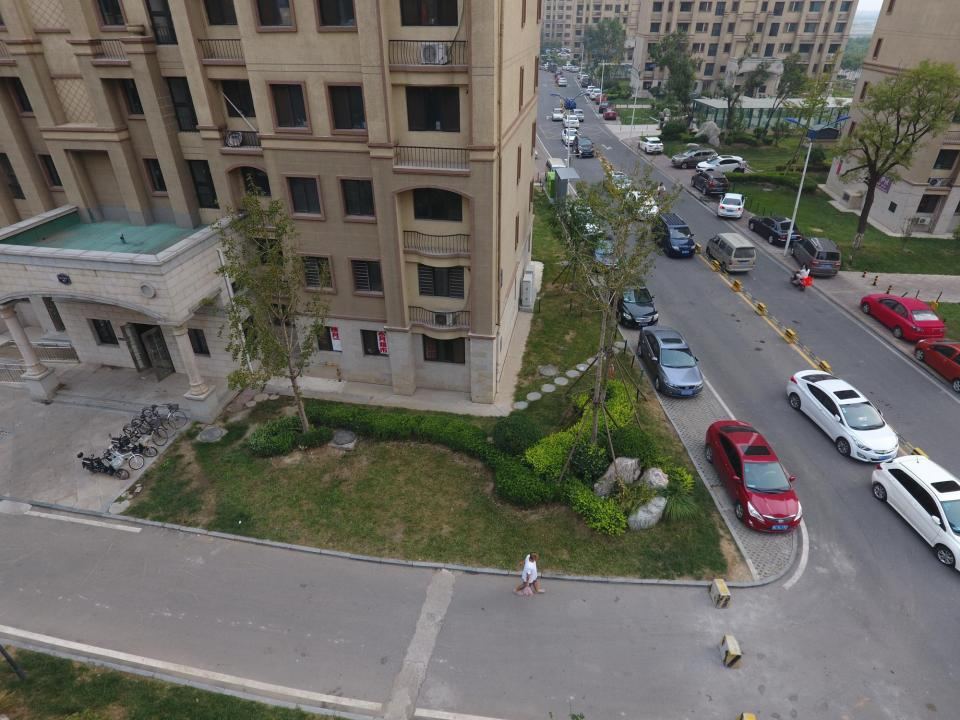car: (704, 418, 804, 535), (786, 370, 900, 464), (870, 454, 960, 571), (638, 324, 705, 399), (861, 292, 948, 342), (606, 266, 658, 328), (913, 336, 960, 395), (705, 231, 757, 272), (794, 235, 840, 277), (652, 212, 694, 256), (748, 214, 800, 247), (584, 231, 621, 275), (669, 145, 718, 171), (697, 154, 748, 176), (624, 190, 659, 221), (689, 170, 728, 194), (570, 204, 600, 235), (716, 192, 746, 219), (605, 170, 632, 195), (544, 157, 566, 184), (572, 136, 595, 158), (637, 135, 664, 153), (562, 128, 580, 146), (562, 115, 579, 129), (569, 109, 584, 122), (603, 108, 616, 121), (598, 101, 611, 114), (589, 88, 601, 100), (552, 108, 563, 121), (564, 98, 576, 109), (595, 93, 606, 104), (580, 77, 590, 87), (557, 78, 566, 87), (540, 62, 549, 71), (580, 74, 588, 84), (586, 86, 594, 95), (558, 51, 570, 57), (548, 63, 557, 71), (568, 66, 578, 72), (562, 64, 572, 70), (554, 70, 562, 77), (555, 75, 564, 81), (578, 71, 585, 78), (548, 48, 557, 53), (555, 48, 564, 52), (563, 48, 571, 52)
